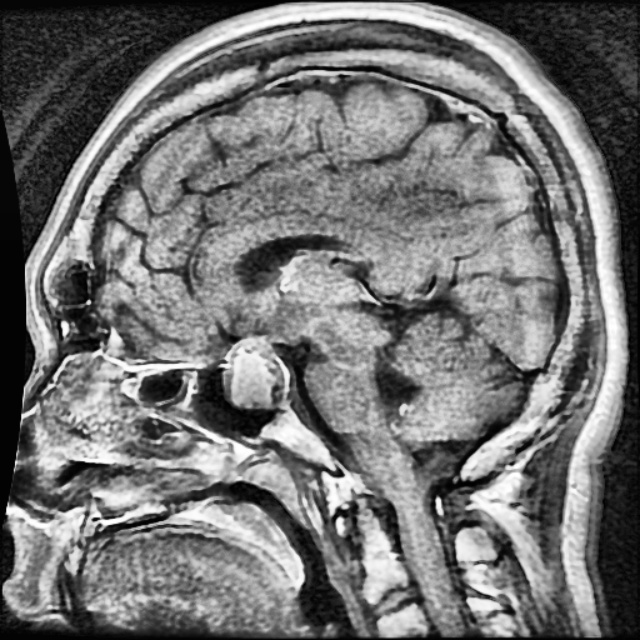Pituitary: (219, 338, 288, 408)
